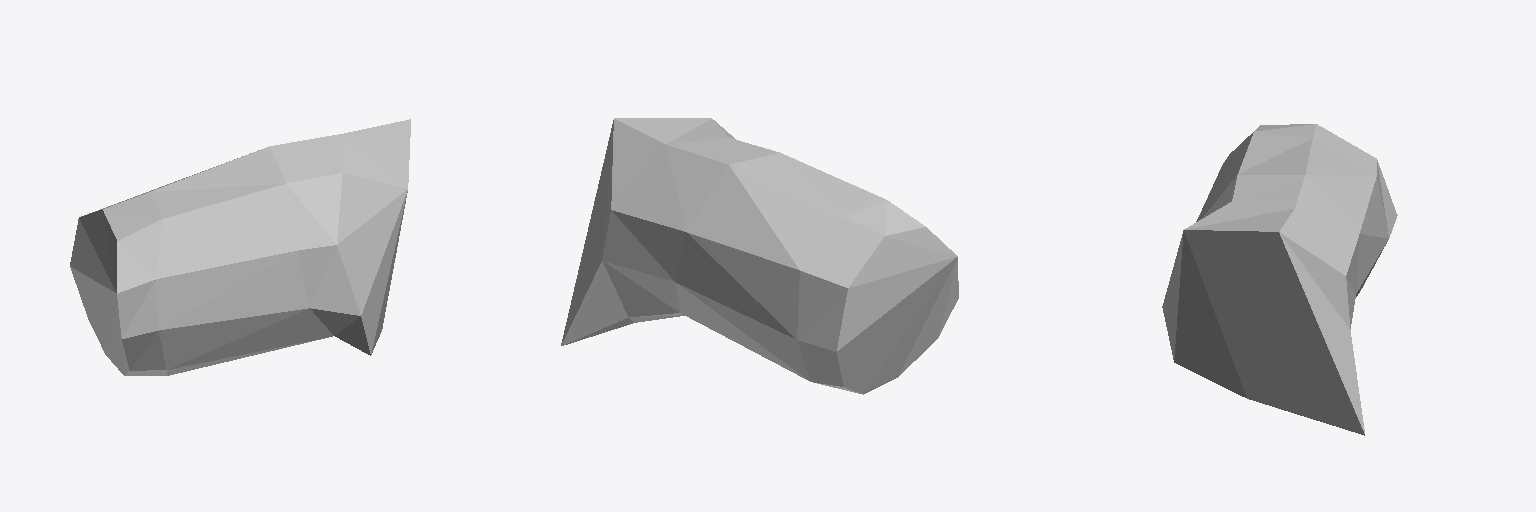
File: ring1.obj
The picture shows the model from 3 angles: view 1: azimuth 30°, elevation 25°; view 2: azimuth 150°, elevation 25°; view 3: azimuth 270°, elevation 25°; orthographic projection.
Size of the model in its own units: 38.24 by 22.11 by 23.69.